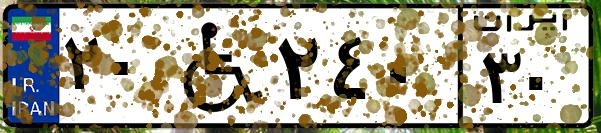0: (385, 28, 445, 110), (525, 38, 570, 115), (110, 28, 158, 98)
2: (270, 28, 330, 110), (57, 26, 110, 100)
3: (475, 38, 525, 113)
4: (330, 28, 385, 110)
ژ (معلولین و جانبازان): (158, 12, 270, 120)
